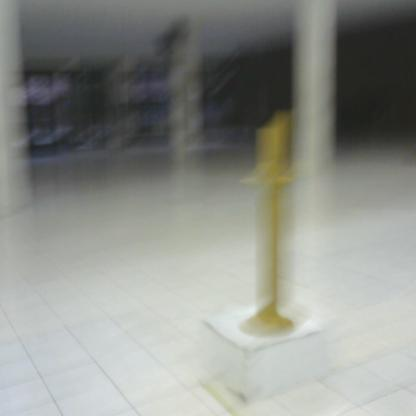pole: (232, 118, 315, 345)
